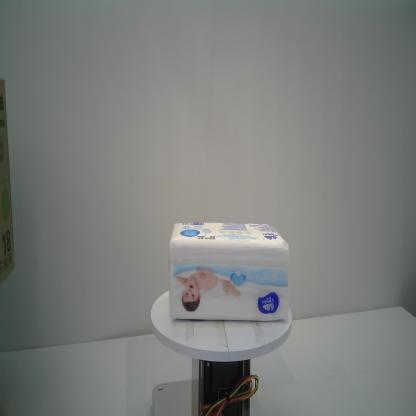Tissue: (168, 221, 290, 322)
